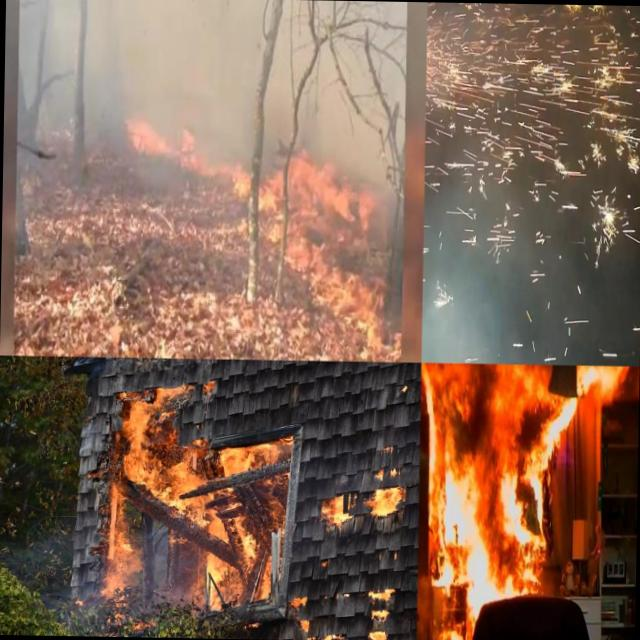fire: (426, 362, 622, 612), (99, 384, 204, 602), (200, 422, 291, 605), (263, 150, 374, 227), (431, 276, 506, 364), (126, 112, 197, 170), (316, 486, 352, 540), (366, 471, 404, 522), (366, 585, 398, 640), (288, 590, 308, 612), (294, 615, 314, 634), (320, 627, 347, 640)
